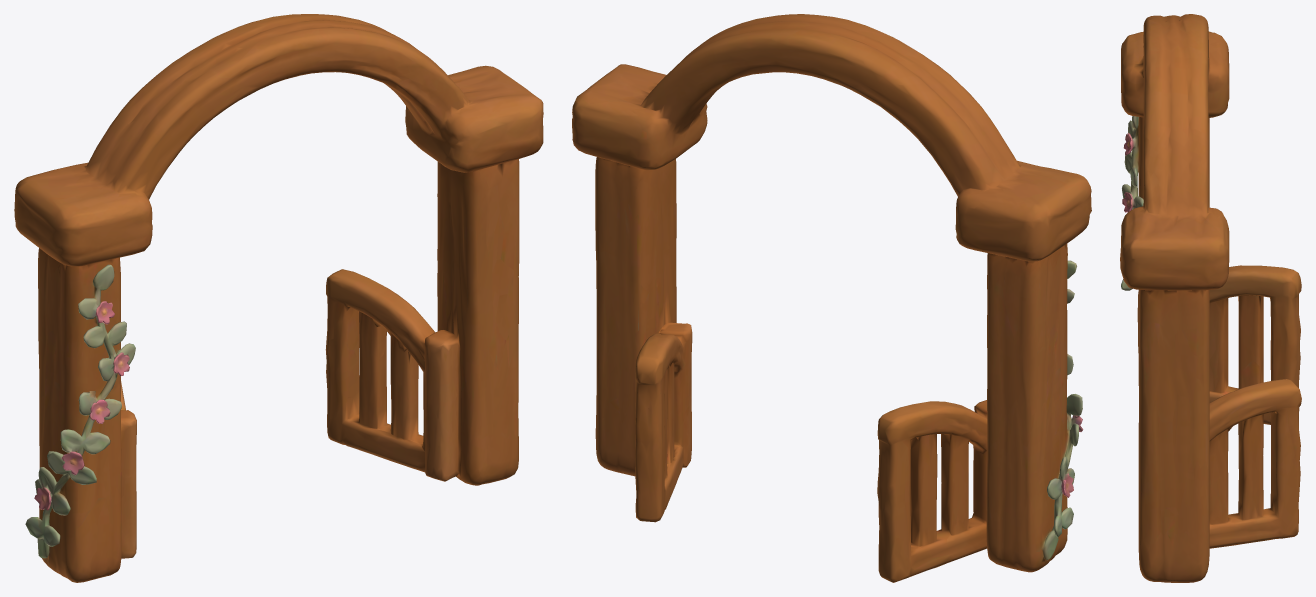
The model's file is 42-portao.glb.
The picture shows the model from 3 angles, left to right: view 1: azimuth 30°, elevation 25°; view 2: azimuth 150°, elevation 25°; view 3: azimuth 270°, elevation 25°; orthographic projection. The views are drawn at different scales.
Visible parts, largest first — view 1: tripo_node_eec8b7ab-df80-42c1-9192-24bf9bceb1a7; view 2: tripo_node_eec8b7ab-df80-42c1-9192-24bf9bceb1a7; view 3: tripo_node_eec8b7ab-df80-42c1-9192-24bf9bceb1a7.
Part boxes in pixels (x1,y1,x2,y2): tripo_node_eec8b7ab-df80-42c1-9192-24bf9bceb1a7: [14, 14, 543, 582]; tripo_node_eec8b7ab-df80-42c1-9192-24bf9bceb1a7: [572, 14, 1091, 582]; tripo_node_eec8b7ab-df80-42c1-9192-24bf9bceb1a7: [1120, 14, 1301, 582].
Size of the model in its own units: 1 by 0.9711 by 0.3544.
1 material, 1 textured.
